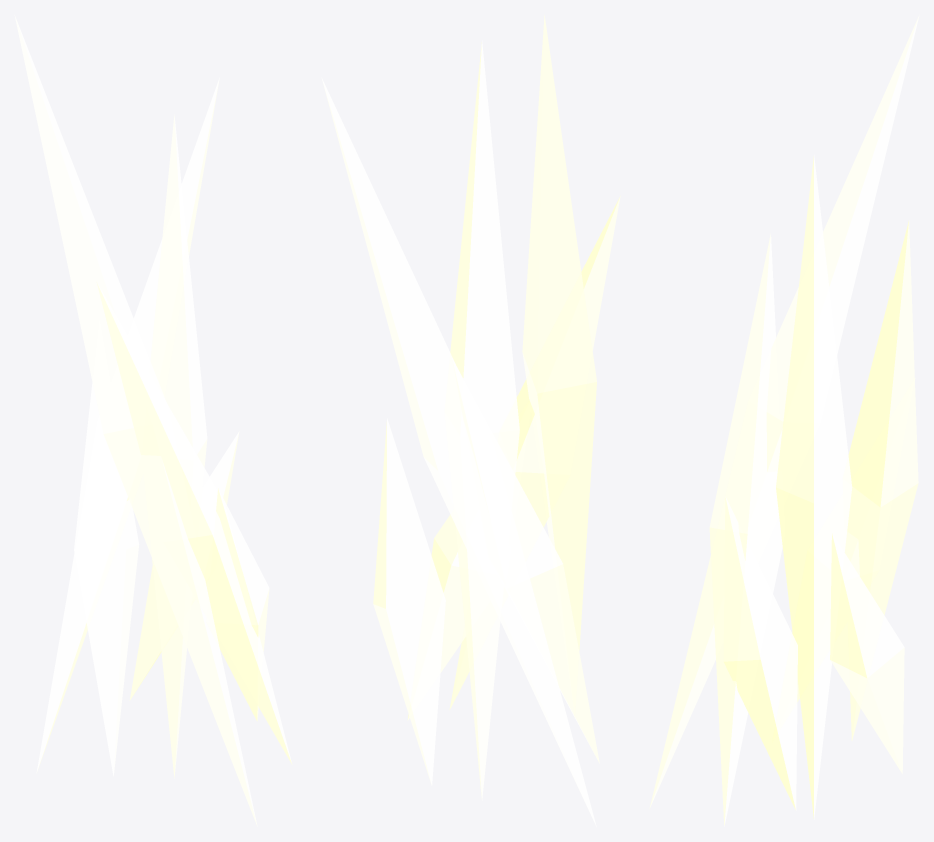
Rendered from crystal_gold.glb.
The picture shows the model from 3 angles, left to right: view 1: azimuth 30°, elevation 25°; view 2: azimuth 150°, elevation 25°; view 3: azimuth 270°, elevation 25°; orthographic projection. The views are drawn at different scales.
Visible parts, largest first — view 1: crystal; view 2: crystal; view 3: crystal.
Boxes of the visible parts, x1,y1,x2,y2 form: crystal: (14,15,292,826); crystal: (321,15,620,826); crystal: (649,15,919,826).
Size of the model in its own units: 0.9008 by 3.05 by 0.9924.
